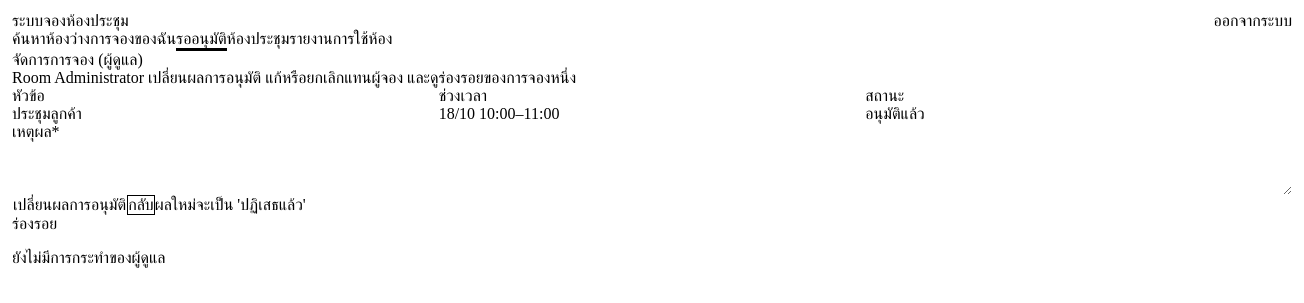
Scenario: FE-mrr-008 change an approval decision page (UI-mrr-010) › AC-mrr-033 approved → rejected with อนุมัติผิดห้อง: posts API-013, says เปลี่ยนผลการอนุมัติสำเร็จ and shows ปฏิเสธแล้ว
Expected: the text "ผลใหม่จะเป็น 'ปฏิเสธแล้ว'" is shown, [155,196,306,214]
In the text box with test id "ui-mrr-010-ent-010-reason": point(652, 168) [12,141,1292,195], type "อนุมัติผิดห้อง"
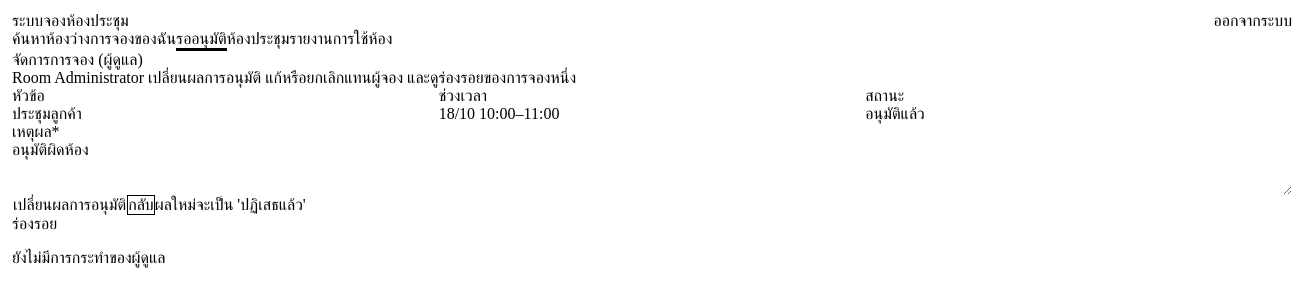
Click the button with test id "ui-mrr-010-change-decision": point(70, 205) [12,195,127,215]
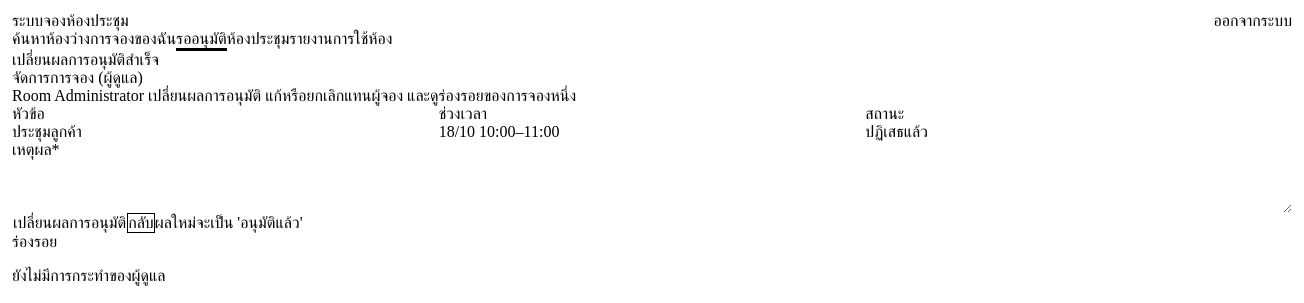
Expected: the message reads "เปลี่ยนผลการอนุมัติสำเร็จ", [12,51,159,68]
Expected: the text with test id "ui-mrr-010-ent-007-status" reads "ปฏิเสธแล้ว", [865,123,928,140]
Expected: the text box with test id "ui-mrr-010-ent-010-reason" is empty, [12,159,1292,213]
